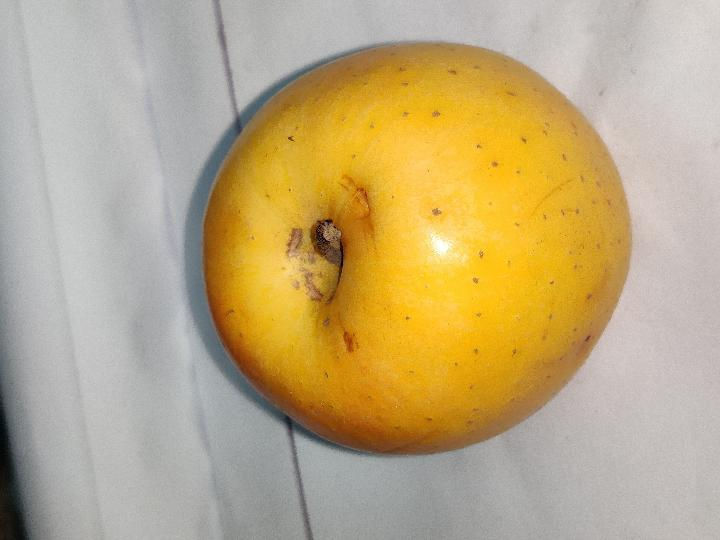apple: (203, 43, 631, 454)
surface_damage: (339, 174, 374, 246), (343, 331, 354, 352)
